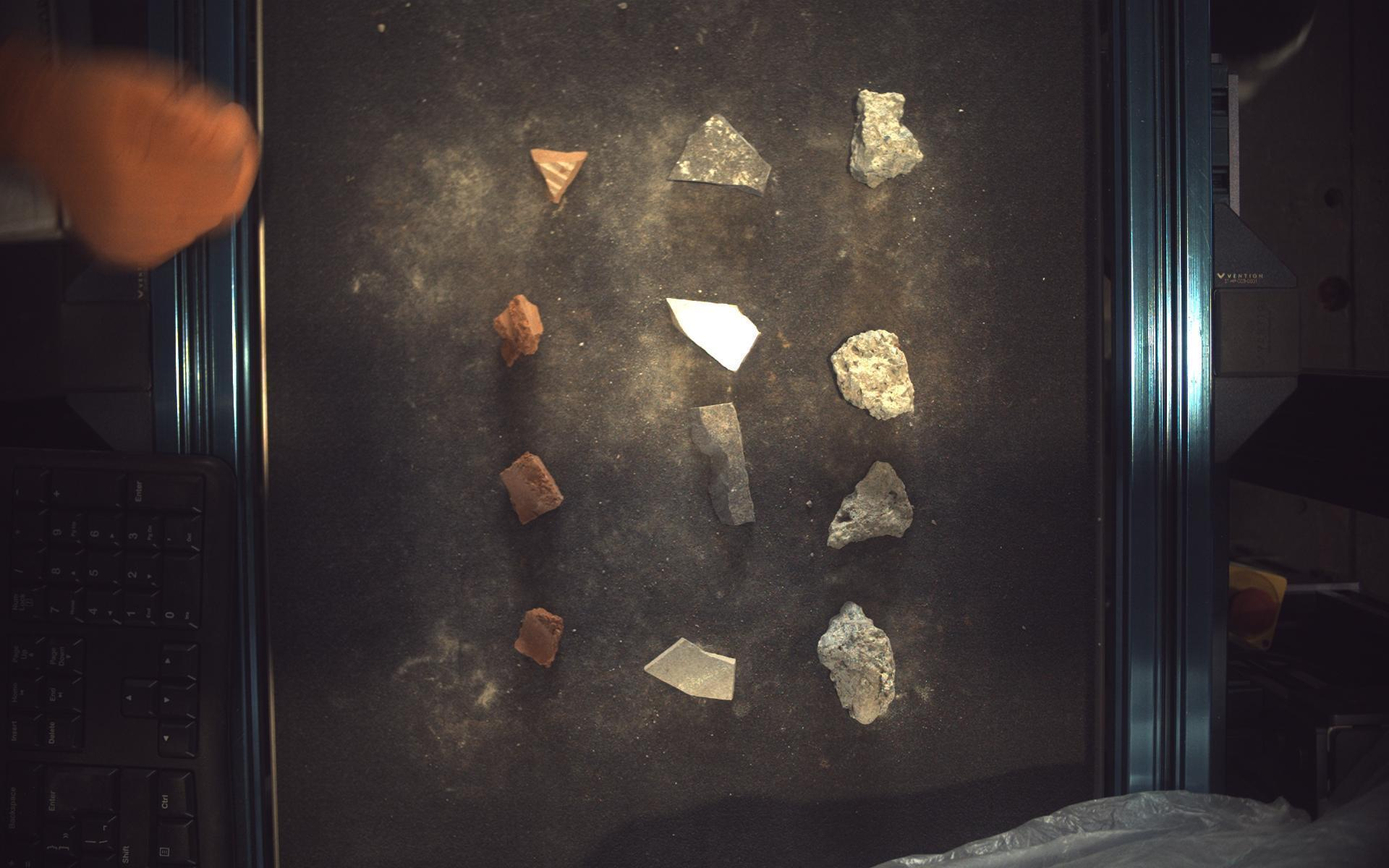brick: (501, 452, 564, 525), (493, 294, 544, 367), (532, 148, 588, 203), (515, 609, 564, 668)
concrete: (819, 602, 897, 726), (832, 329, 917, 420), (829, 461, 914, 550), (851, 88, 925, 187)
tile: (670, 114, 773, 193), (692, 403, 757, 526), (668, 297, 761, 371), (645, 640, 736, 702)
